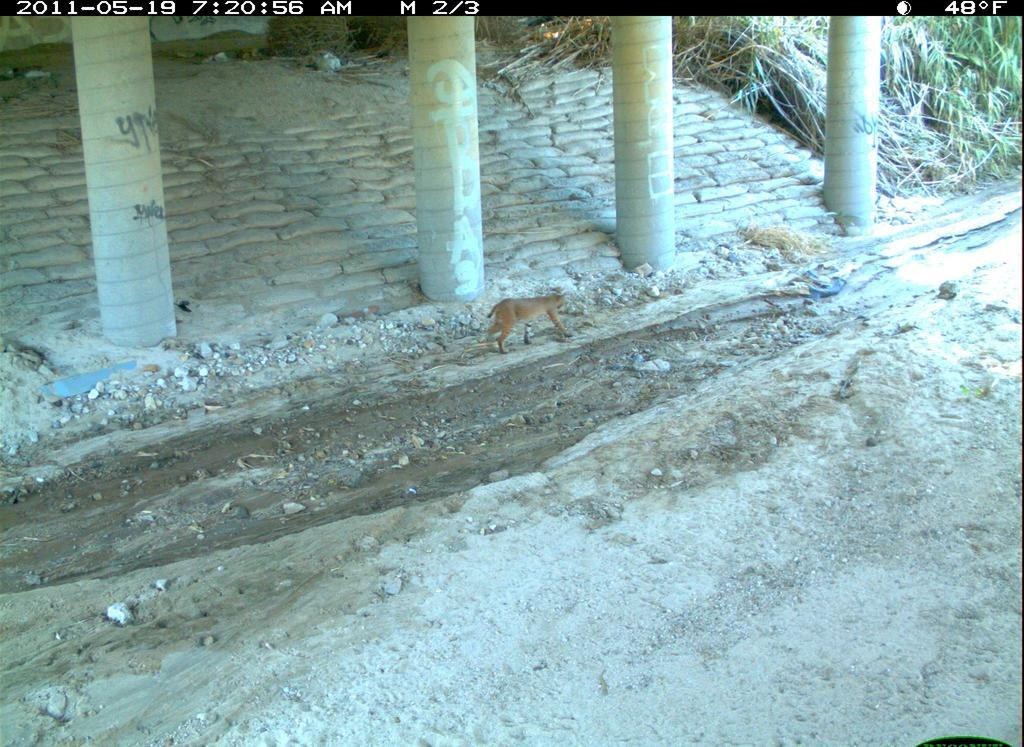bobcat: (963, 582, 1024, 715)
